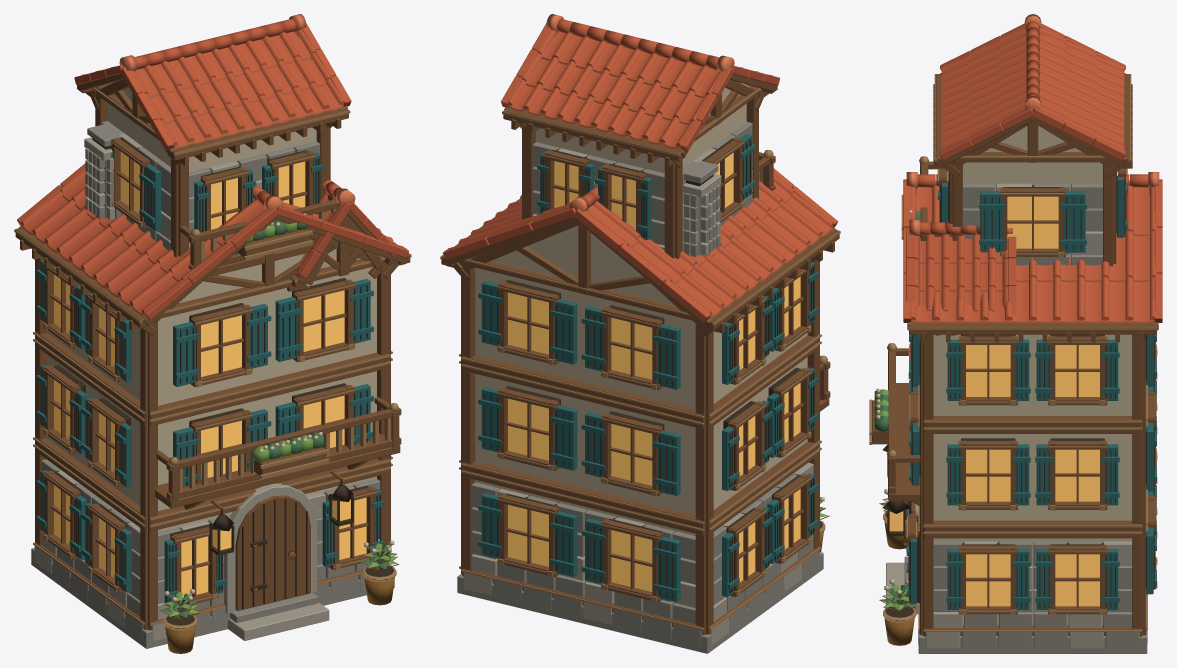
The picture shows the model from 3 angles, left to right: view 1: azimuth 30°, elevation 25°; view 2: azimuth 150°, elevation 25°; view 3: azimuth 270°, elevation 25°; orthographic projection.
Visible parts, largest first — view 1: alpine_villa_3_geometry, alpine_villa_3_geometry ceramic; view 2: alpine_villa_3_geometry, alpine_villa_3_geometry ceramic; view 3: alpine_villa_3_geometry, alpine_villa_3_geometry ceramic.
Boxes of the visible parts, left/top/right/bottom form: alpine_villa_3_geometry: left=14, top=32, right=411, bottom=653; alpine_villa_3_geometry ceramic: left=17, top=14, right=408, bottom=319; alpine_villa_3_geometry: left=440, top=32, right=840, bottom=653; alpine_villa_3_geometry ceramic: left=443, top=14, right=837, bottom=322; alpine_villa_3_geometry: left=869, top=33, right=1158, bottom=653; alpine_villa_3_geometry ceramic: left=903, top=14, right=1162, bottom=323.
Size of the model in its own units: 0.9348 by 1.76 by 0.8713.
